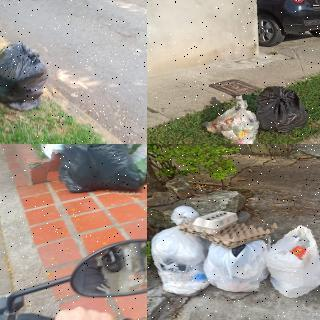Garbage: (147, 205, 215, 296), (260, 220, 320, 308), (50, 144, 147, 194), (0, 37, 57, 115), (205, 236, 275, 293), (199, 95, 262, 144), (253, 86, 311, 134), (40, 144, 72, 162)
